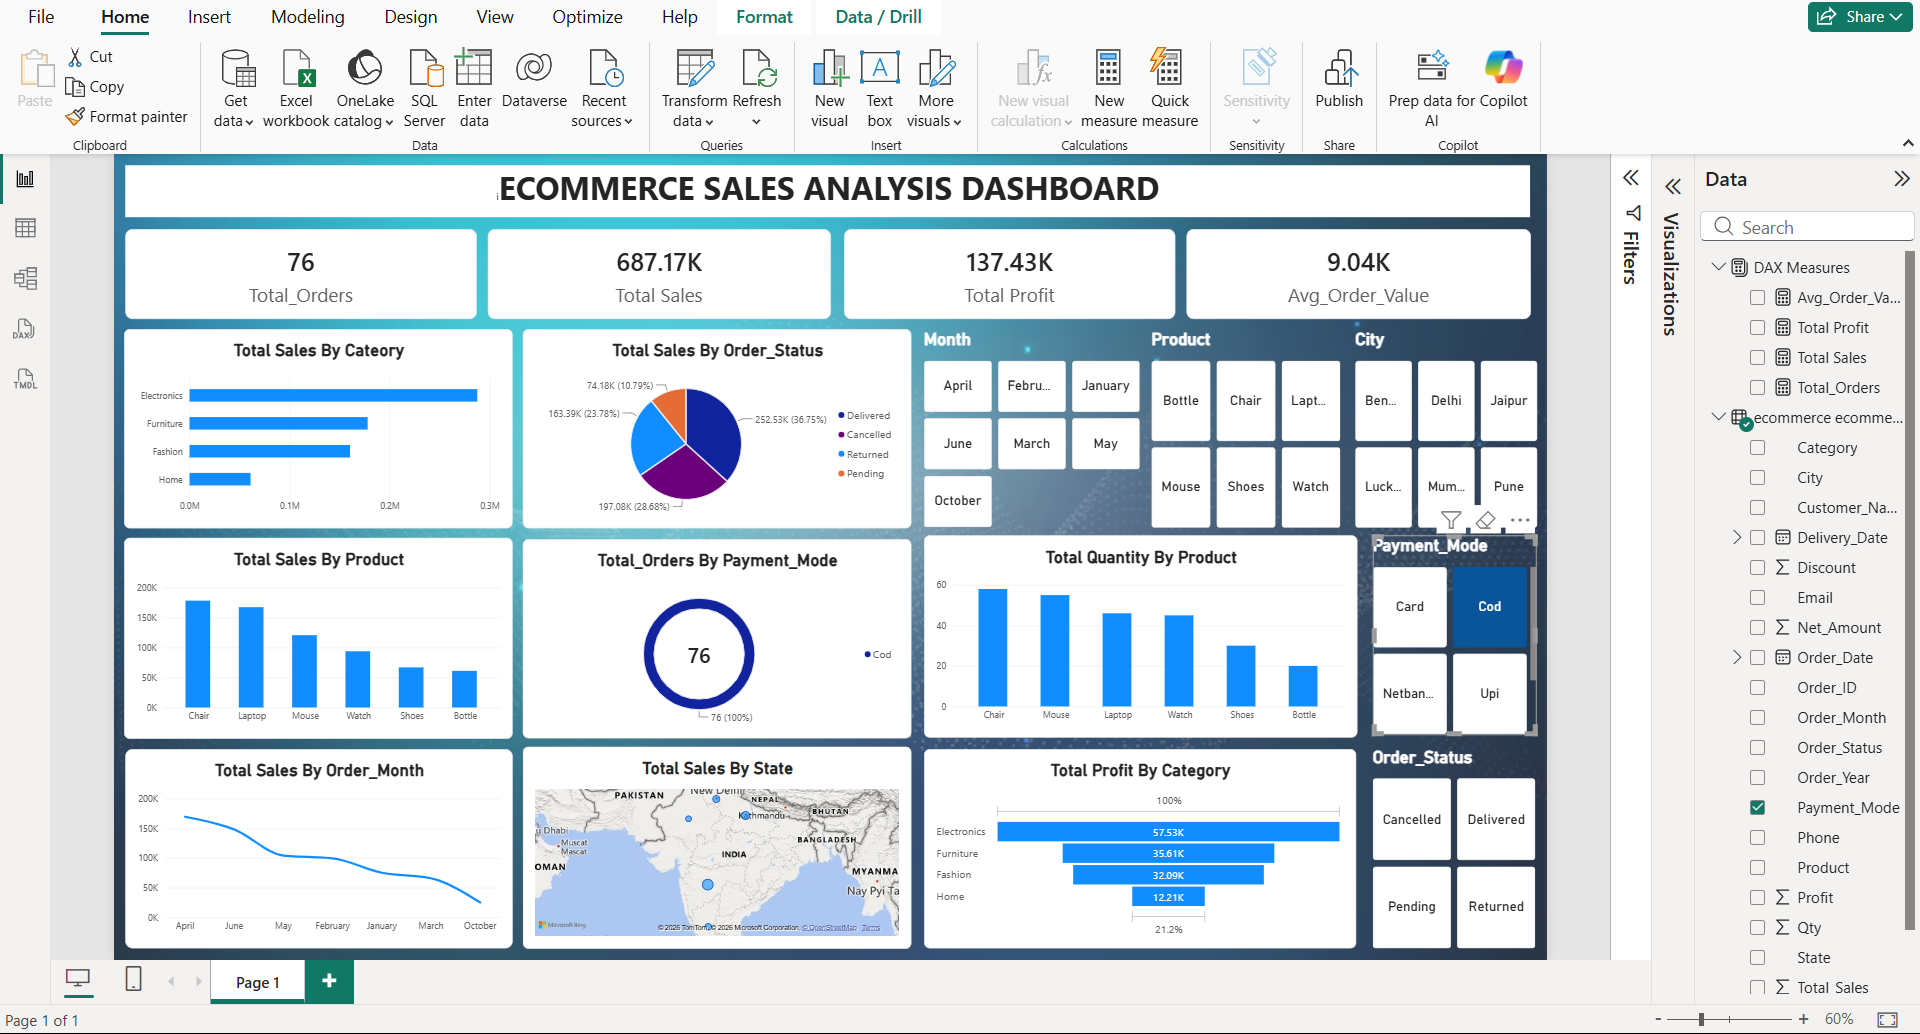

This screenshot's page, from the dashboard's own definition file:
{"tool":"powerbi","page":{"name":"Page 1","canvas":[1920,1080],"ordinal":0},"visuals":[{"type":"card","fields":{"Values":["DAX Measures.Total_Orders"]},"box":[15.4,100,471.2,121.2],"z":0},{"type":"card","fields":{"Values":["DAX Measures.Total Sales"]},"box":[500,100,459.6,121.2],"z":1},{"type":"card","fields":{"Values":["DAX Measures.Total Profit"]},"box":[978.8,100,444.2,121.2],"z":2},{"type":"card","fields":{"Values":["DAX Measures.Avg_Order_Value"]},"box":[1436.5,100,461.5,121.2],"z":3},{"type":"lineChart","fields":{"Y":["DAX Measures.Total Sales"],"Category":["ecommerce ecommerce_data.Order_Month"]},"box":[15.4,798.1,519.2,267.3],"z":4},{"type":"columnChart","fields":{"Y":["DAX Measures.Total Sales"],"Category":["ecommerce ecommerce_data.Product"]},"box":[13.5,513.5,521.2,269.2],"z":5},{"type":"columnChart","fields":{"Category":["ecommerce ecommerce_data.Product"],"Y":["Sum(ecommerce ecommerce_data.Qty)"]},"box":[1084.6,511.5,580.8,271.2],"z":6},{"type":"map","fields":{"Category":["ecommerce ecommerce_data.State","ecommerce ecommerce_data.City"],"Size":["DAX Measures.Total Sales"]},"box":[548.1,794.2,521.2,271.2],"z":7},{"type":"funnel","fields":{"Y":["DAX Measures.Total Profit"],"Category":["ecommerce ecommerce_data.Category"]},"box":[1084.6,798.1,578.8,267.3],"z":8},{"type":"donutChart","fields":{"Category":["ecommerce ecommerce_data.Payment_Mode"],"Y":["DAX Measures.Total_Orders"]},"box":[548.1,515.4,521.2,267.3],"z":9},{"type":"clusteredBarChart","fields":{"Category":["ecommerce ecommerce_data.Category"],"Y":["DAX Measures.Total Sales"]},"box":[13.5,234.6,521.2,267.3],"z":10},{"type":"pieChart","fields":{"Category":["ecommerce ecommerce_data.Order_Status"],"Y":["DAX Measures.Total Sales"]},"box":[548.1,234.6,521.2,267.3],"z":11},{"type":"advancedSlicerVisual","title":"Month","fields":{"Values":["ecommerce ecommerce_data.Order_Month"]},"box":[1084.6,234.6,290.4,267.3],"z":12},{"type":"advancedSlicerVisual","fields":{"Values":["ecommerce ecommerce_data.Order_Status"]},"box":[1686.5,794.2,219.2,271.2],"z":13},{"type":"advancedSlicerVisual","fields":{"Values":["ecommerce ecommerce_data.Payment_Mode"]},"box":[1686.5,511.5,219,267],"z":14},{"type":"advancedSlicerVisual","fields":{"Values":["ecommerce ecommerce_data.Product"]},"box":[1390.4,234.6,255.8,267.3],"z":15},{"type":"advancedSlicerVisual","fields":{"Values":["ecommerce ecommerce_data.City"]},"box":[1663.5,234.6,244.2,267.3],"z":16},{"type":"textbox","box":[100,100,300,300],"z":17},{"type":"textbox","box":[15.4,15.4,1882.7,69.2],"z":18}]}

Visuals, with their boxes on the page's 1920x1080 design canvas (x1, y1, x2, y2). These are canvas units, not pixel positions in the 1920x1034 screenshot, which may show the page scaled, cropped or inside an application window:
card - DAX Measures.Total_Orders: <region>15, 100, 487, 221</region>
card - DAX Measures.Total Sales: <region>500, 100, 960, 221</region>
card - DAX Measures.Total Profit: <region>979, 100, 1423, 221</region>
card - DAX Measures.Avg_Order_Value: <region>1436, 100, 1898, 221</region>
lineChart - DAX Measures.Total Sales x ecommerce ecommerce_data.Order_Month: <region>15, 798, 535, 1065</region>
columnChart - DAX Measures.Total Sales x ecommerce ecommerce_data.Product: <region>14, 514, 535, 783</region>
columnChart - ecommerce ecommerce_data.Product x Sum(ecommerce ecommerce_data.Qty): <region>1085, 512, 1665, 783</region>
map - ecommerce ecommerce_data.State x ecommerce ecommerce_data.City: <region>548, 794, 1069, 1065</region>
funnel - DAX Measures.Total Profit x ecommerce ecommerce_data.Category: <region>1085, 798, 1663, 1065</region>
donutChart - ecommerce ecommerce_data.Payment_Mode x DAX Measures.Total_Orders: <region>548, 515, 1069, 783</region>
clusteredBarChart - ecommerce ecommerce_data.Category x DAX Measures.Total Sales: <region>14, 235, 535, 502</region>
pieChart - ecommerce ecommerce_data.Order_Status x DAX Measures.Total Sales: <region>548, 235, 1069, 502</region>
"Month" advancedSlicerVisual: <region>1085, 235, 1375, 502</region>
advancedSlicerVisual - ecommerce ecommerce_data.Order_Status: <region>1686, 794, 1906, 1065</region>
advancedSlicerVisual - ecommerce ecommerce_data.Payment_Mode: <region>1686, 512, 1906, 778</region>
advancedSlicerVisual - ecommerce ecommerce_data.Product: <region>1390, 235, 1646, 502</region>
advancedSlicerVisual - ecommerce ecommerce_data.City: <region>1664, 235, 1908, 502</region>
textbox: <region>100, 100, 400, 400</region>
textbox: <region>15, 15, 1898, 85</region>
